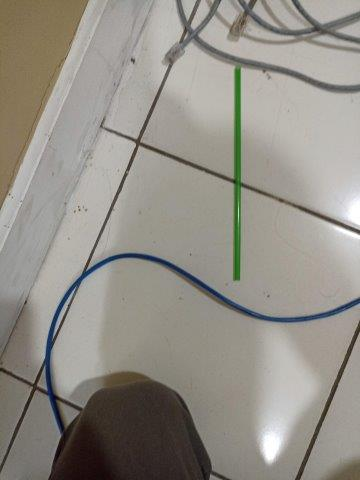sedotan: (233, 67, 241, 280)
